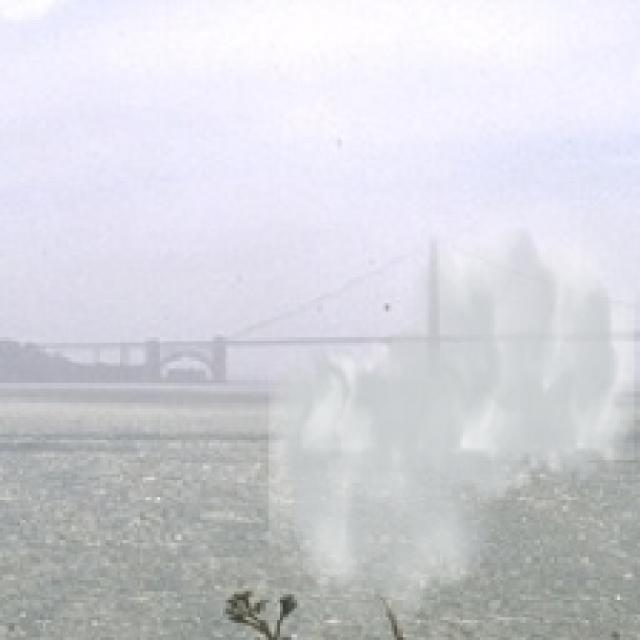Smoke: (268, 203, 634, 626)
